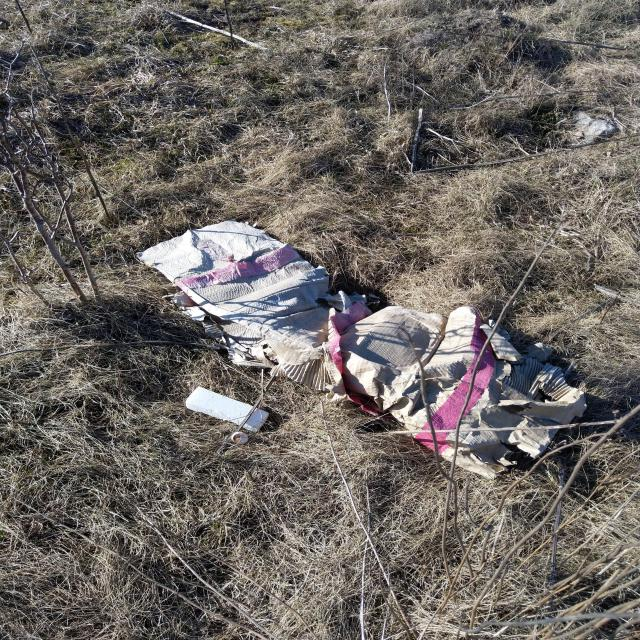litter: (120, 202, 591, 480), (180, 372, 283, 448)
